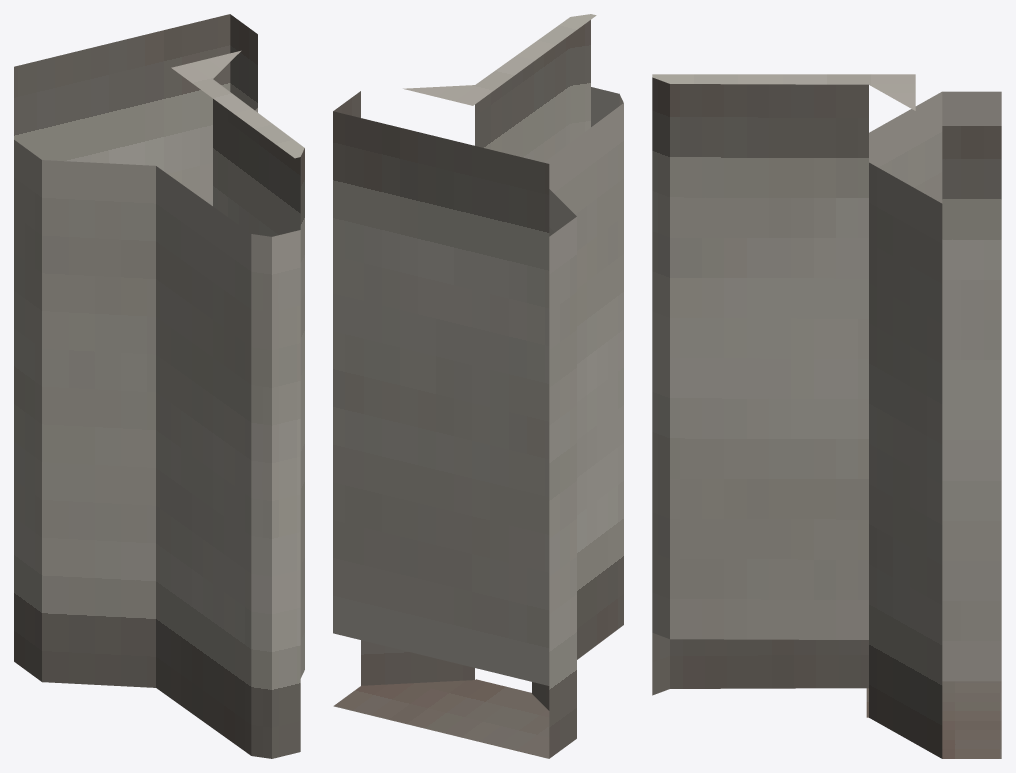
3 views of the same model, side by side, from view 1: azimuth 30°, elevation 25°; view 2: azimuth 150°, elevation 25°; view 3: azimuth 270°, elevation 25° (orthographic). The views are drawn at different scales.
Size of the model in its own units: 0.38 by 1 by 0.5.
